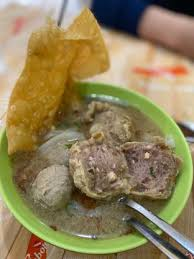bakso: (24, 95, 175, 218)
